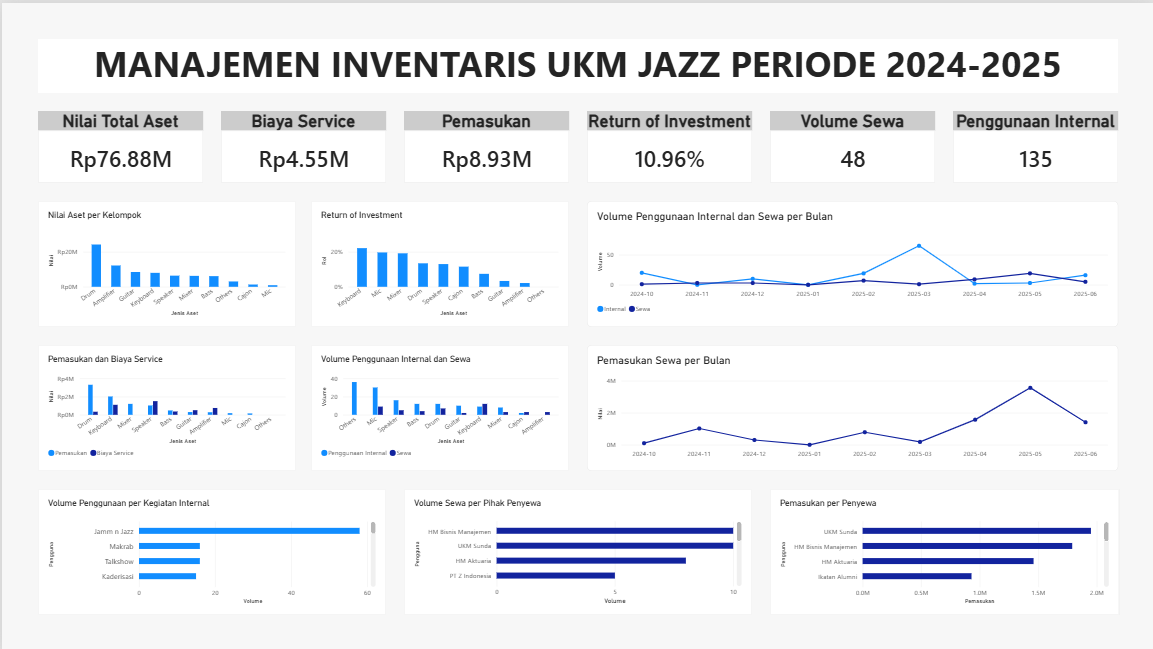

This screenshot's page, from the dashboard's own definition file:
{"tool":"powerbi","page":{"name":"Page 1","canvas":[1920,1080],"ordinal":0},"visuals":[{"type":"cardVisual","title":"Nilai Total Aset","fields":{"Data":["Sum(inventory sektor_finansial.nilai)"]},"box":[60,180,275,120],"z":0},{"type":"textbox","box":[60,60,1800,90],"z":1000},{"type":"cardVisual","title":"Biaya Service","fields":{"Data":["Sum(inventory sektor_finansial.biaya_service)"]},"box":[365,180,275,120],"z":2000},{"type":"cardVisual","title":"Pemasukan","fields":{"Data":["Sum(inventory sektor_finansial.pemasukan)"]},"box":[670,180,275,120],"z":3000},{"type":"cardVisual","title":"Return of Investment","fields":{"Data":["inventory sektor_finansial.Total_ROI"]},"box":[975,180,275,120],"z":4000},{"type":"cardVisual","title":"Volume Sewa","fields":{"Data":["Sum(inventory sektor_finansial.jumlah_sewa)"]},"box":[1280,180,275,120],"z":5000},{"type":"cardVisual","title":"Penggunaan Internal","fields":{"Data":["Sum(inventory sektor_finansial.jumlah_pemakaian)"]},"box":[1585,180,275,120],"z":6000},{"type":"clusteredColumnChart","title":"Nilai Aset per Kelompok","fields":{"Category":["inventory sektor_finansial.jenis"],"Y":["Sum(inventory sektor_finansial.nilai)"]},"box":[60,330,430,210],"z":7000},{"type":"clusteredColumnChart","title":"Volume Penggunaan Internal dan Sewa","fields":{"Y":["Sum(inventory sektor_finansial.jumlah_pemakaian)","Sum(inventory sektor_finansial.jumlah_sewa)"],"Category":["inventory sektor_finansial.jenis"]},"box":[515,570,430,210],"z":8000},{"type":"clusteredColumnChart","title":"Return of Investment","fields":{"Category":["inventory sektor_finansial.jenis"],"Y":["Sum(inventory sektor_finansial.ROI)"]},"box":[515.7,330,430,210],"z":9000},{"type":"clusteredBarChart","title":"Pemasukan per Penyewa","fields":{"Category":["inventory penggunaan_alat.Pengguna"],"Y":["Sum(inventory penggunaan_alat.Pemasukan_ke_Organisasi)"],"Series":["inventory penggunaan_alat.Jenis_Pemakaian"]},"box":[1280,810,582,210],"z":10000},{"type":"clusteredColumnChart","title":"Pemasukan dan Biaya Service","fields":{"Category":["inventory sektor_finansial.jenis"],"Y":["Sum(inventory sektor_finansial.pemasukan)","Sum(inventory sektor_finansial.biaya_service)"]},"box":[60,570,430,210],"z":11000},{"type":"clusteredBarChart","title":"Volume Sewa per Pihak Penyewa","fields":{"Category":["inventory penggunaan_alat.Pengguna"],"Y":["Sum(inventory penggunaan_alat.Volume)"],"Series":["inventory penggunaan_alat.Jenis_Pemakaian"]},"box":[670,810,580,210],"z":12000},{"type":"clusteredBarChart","title":"Volume Penggunaan per Kegiatan Internal","fields":{"Category":["inventory penggunaan_alat.Pengguna"],"Y":["Sum(inventory penggunaan_alat.Volume)"]},"box":[60,810,580,210],"z":13000},{"type":"lineChart","title":"Volume Penggunaan Internal dan Sewa per Bulan","fields":{"Category":["inventory penggunaan_alat.Bulan"],"Y":["Sum(inventory penggunaan_alat.Volume)"],"Series":["inventory penggunaan_alat.Jenis_Pemakaian"]},"box":[975,330,885,210],"z":14000},{"type":"lineChart","title":"Pemasukan Sewa per Bulan","fields":{"Category":["inventory penggunaan_alat.Bulan"],"Y":["Sum(inventory penggunaan_alat.Pemasukan_ke_Organisasi)"]},"box":[975,570,885,210],"z":15000}]}

Visuals, with their boxes in screenshot pixels (x1, y1, x2, y2), scaled from the page's 1920x1080 canvas onto the 1153x649 screenshot:
"Nilai Total Aset" cardVisual: box(36, 108, 201, 180)
textbox: box(36, 36, 1117, 90)
"Biaya Service" cardVisual: box(219, 108, 384, 180)
"Pemasukan" cardVisual: box(402, 108, 567, 180)
"Return of Investment" cardVisual: box(586, 108, 751, 180)
"Volume Sewa" cardVisual: box(769, 108, 934, 180)
"Penggunaan Internal" cardVisual: box(952, 108, 1117, 180)
"Nilai Aset per Kelompok" clusteredColumnChart: box(36, 198, 294, 324)
"Volume Penggunaan Internal dan Sewa" clusteredColumnChart: box(309, 343, 567, 469)
"Return of Investment" clusteredColumnChart: box(310, 198, 568, 324)
"Pemasukan per Penyewa" clusteredBarChart: box(769, 487, 1118, 613)
"Pemasukan dan Biaya Service" clusteredColumnChart: box(36, 343, 294, 469)
"Volume Sewa per Pihak Penyewa" clusteredBarChart: box(402, 487, 751, 613)
"Volume Penggunaan per Kegiatan Internal" clusteredBarChart: box(36, 487, 384, 613)
"Volume Penggunaan Internal dan Sewa per Bulan" lineChart: box(586, 198, 1117, 324)
"Pemasukan Sewa per Bulan" lineChart: box(586, 343, 1117, 469)
